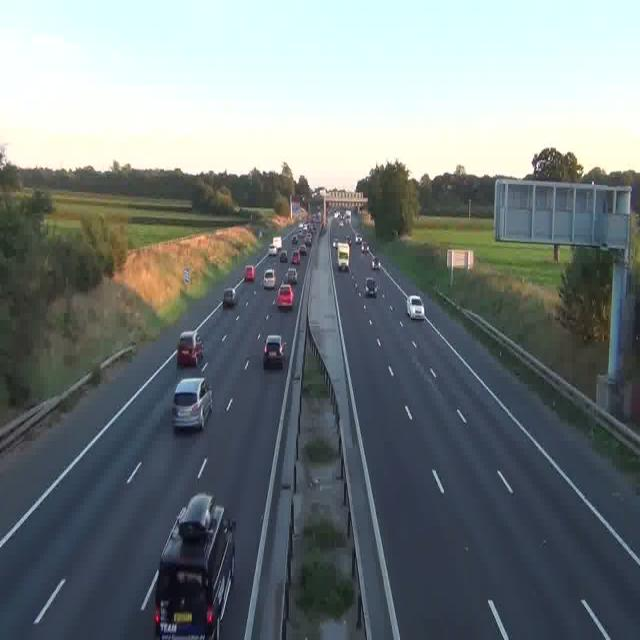bus: (335, 239, 351, 272)
car: (154, 493, 236, 640), (172, 376, 211, 431), (176, 332, 206, 368), (263, 335, 286, 368), (406, 294, 425, 321), (276, 284, 294, 308), (222, 286, 238, 307), (364, 276, 378, 297), (262, 270, 276, 289), (286, 266, 298, 284), (244, 266, 256, 281), (372, 257, 381, 270), (280, 251, 290, 262), (300, 241, 308, 254), (360, 241, 368, 252), (354, 233, 362, 244)
